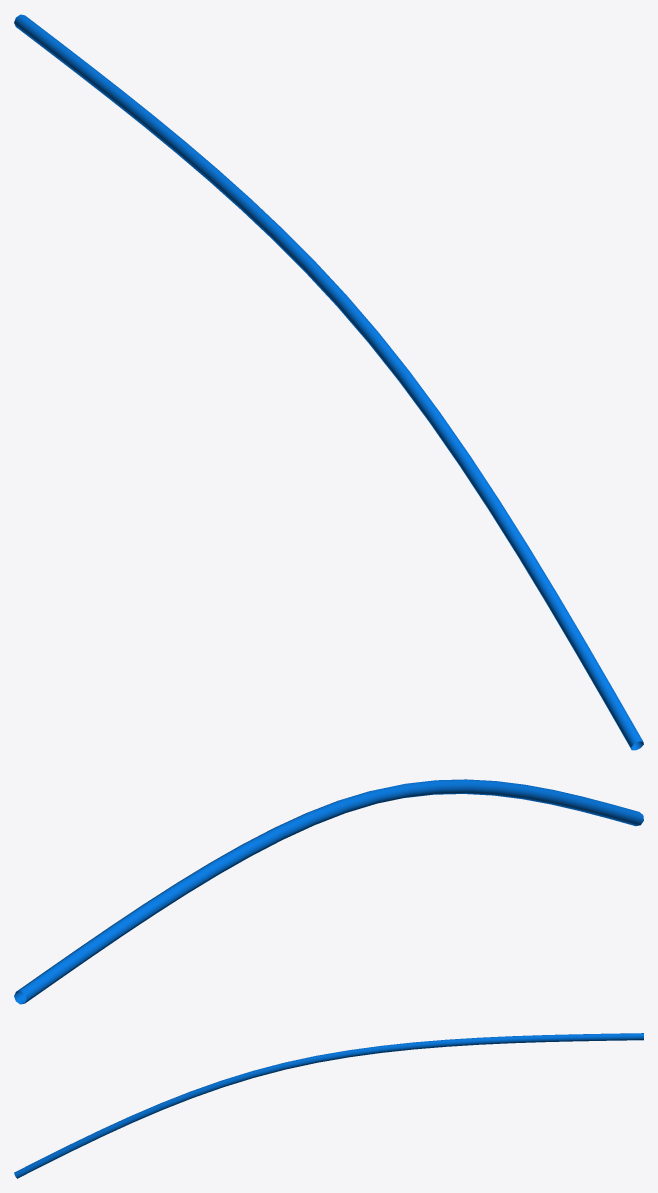
File: LongCorvyPole.fbx
3 renders of one model, top to bottom at view 1: azimuth 30°, elevation 25°; view 2: azimuth 150°, elevation 25°; view 3: azimuth 270°, elevation 25°, orthographic. The views are drawn at different scales.
Parts seen in each view (by area): view 1: wire5; view 2: wire5; view 3: wire5.
Boxes of the visible parts, x1=… form: wire5: x1=14, y1=14, x2=643, y2=750; wire5: x1=14, y1=779, x2=643, y2=1004; wire5: x1=14, y1=1033, x2=643, y2=1178.
Size of the model in its own units: 0.3 by 6.37 by 25.
